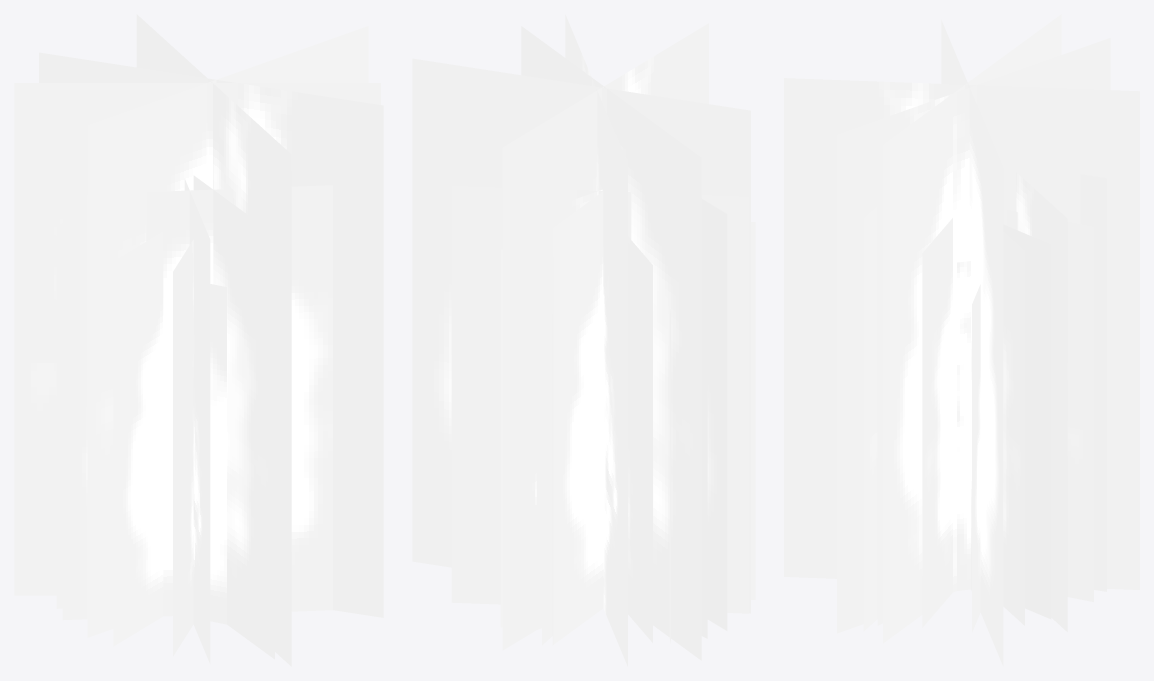
Rendered from E_SCfire_2.glb.
3 views of the same model, side by side, from view 1: azimuth 30°, elevation 25°; view 2: azimuth 150°, elevation 25°; view 3: azimuth 270°, elevation 25° (orthographic). The views are drawn at different scales.
Parts seen in each view (by area): view 1: E_SCfire_2; view 2: E_SCfire_2; view 3: E_SCfire_2.
Part boxes in pixels (x1,y1,x2,y2): E_SCfire_2: (14, 14, 383, 666); E_SCfire_2: (412, 14, 755, 666); E_SCfire_2: (784, 14, 1139, 665).
Bounding box in the file's own units: 1.53 × 2.31 × 1.49.
2 materials, 2 textured.
